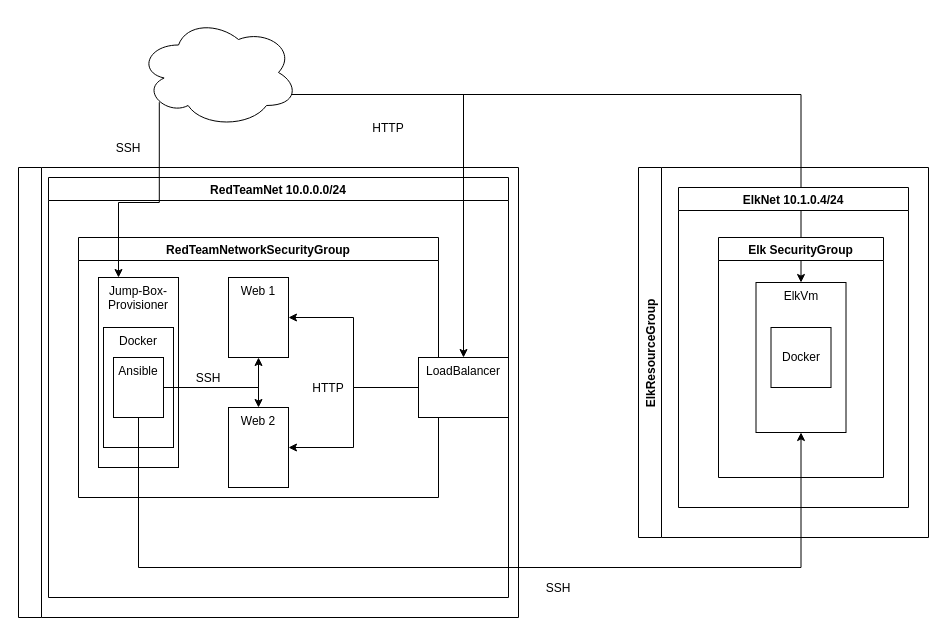
Image size: 946x635. Some labels were removed from this diagram. Here are the shapes that lost their labels. From the top down, the centre of each, then its label:
[218,72]: Personal network
[268,392]: Red-TeamResourceGroup
